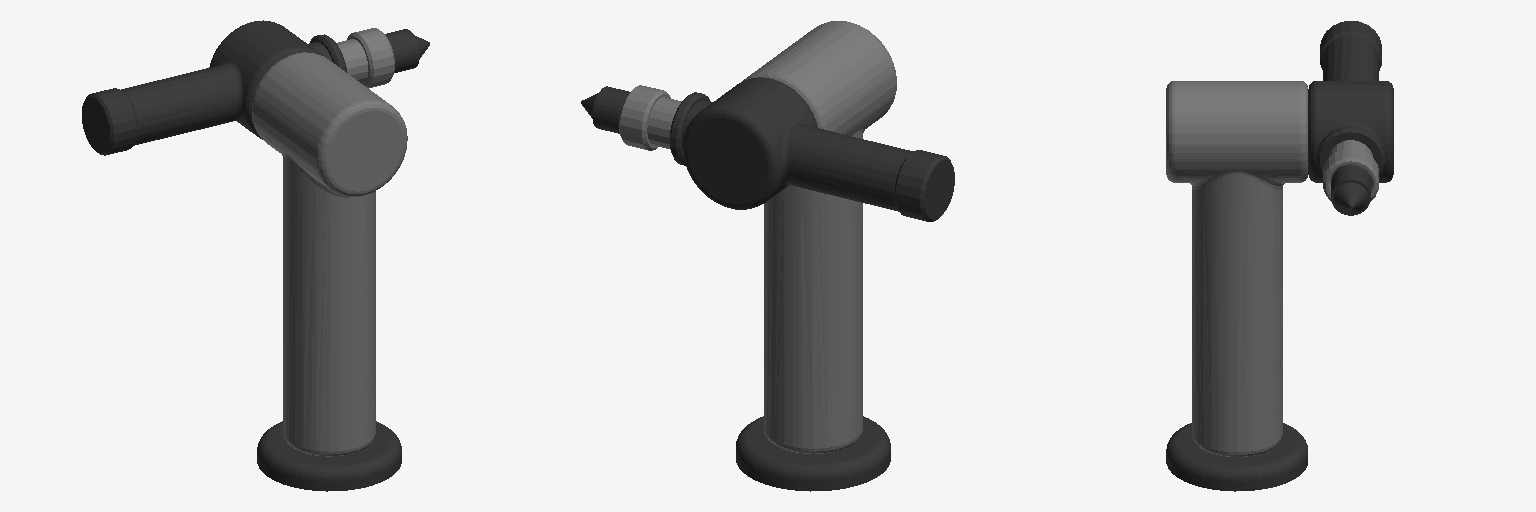
robot.urdf — robot:
<?xml version="1.0" encoding="utf-8"?>
<!-- This URDF was automatically created by SolidWorks to URDF Exporter! Originally created by Stephen Brawner (brawner@gmail.com) 
     Commit Version: 1.6.0-4-g7f85cfe  Build Version: 1.6.7995.38578
     For more information, please see http://wiki.ros.org/sw_urdf_exporter -->
<robot
  name="robot">
  <link
    name="base">
    <inertial>
      <origin
        xyz="0 -4.1633E-17 0.01947"
        rpy="0 0 0" />
      <mass
        value="5.1259" />
      <inertia
        ixx="0.020091"
        ixy="9.7144E-35"
        ixz="-2.0224E-35"
        iyy="0.020091"
        iyz="-6.5871E-17"
        izz="0.03886" />
    </inertial>
    <visual>
      <origin
        xyz="0 0 0"
        rpy="0 0 0" />
      <geometry>
        <mesh
          filename="package://my_robot/meshes/base.STL" />
      </geometry>
      <material
        name="">
        <color
          rgba="0.25 0.25 0.25 1" />
      </material>
    </visual>
    <collision>
      <origin
        xyz="0 0 0"
        rpy="0 0 0" />
      <geometry>
        <mesh
          filename="package://my_robot/meshes/base.STL" />
      </geometry>
    </collision>
  </link>
  <link
    name="link1">
    <inertial>
      <origin
        xyz="-1.9321E-07 -1.5905E-07 -0.21134"
        rpy="0 0 0" />
      <mass
        value="45.236" />
      <inertia
        ixx="2.0228"
        ixy="-1.7903E-08"
        ixz="4.749E-07"
        iyy="1.9708"
        iyz="9.4771E-07"
        izz="0.21241" />
    </inertial>
    <visual>
      <origin
        xyz="0 0 0"
        rpy="0 0 0" />
      <geometry>
        <mesh
          filename="package://my_robot/meshes/link1.STL" />
      </geometry>
      <material
        name="">
        <color
          rgba="0.5 0.5 0.5 1" />
      </material>
    </visual>
    <collision>
      <origin
        xyz="0 0 0"
        rpy="0 0 0" />
      <geometry>
        <mesh
          filename="package://my_robot/meshes/link1.STL" />
      </geometry>
    </collision>
  </link>
  <joint
    name="joint1"
    type="revolute">
    <origin
      xyz="0 0 0.64"
      rpy="0 0 0" />
    <parent
      link="base" />
    <child
      link="link1" />
    <axis
      xyz="0 0 1" />
    <limit
      lower="-3.141592653589793"
      upper="3.141592653589793"
      effort="1000"
      velocity="30" />
  </joint>
  <link
    name="link2">
    <inertial>
      <origin
        xyz="-2.353E-06 0.077449 1.4401E-06"
        rpy="0 0 0" />
      <mass
        value="12.122" />
      <inertia
        ixx="0.23735"
        ixy="-3.6084E-06"
        ixz="5.8385E-08"
        iyy="0.044228"
        iyz="3.7019E-09"
        izz="0.23921" />
    </inertial>
    <visual>
      <origin
        xyz="0 0 0"
        rpy="0 0 0" />
      <geometry>
        <mesh
          filename="package://my_robot/meshes/link2.STL" />
      </geometry>
      <material
        name="">
        <color
          rgba="0.25 0.25 0.25 1" />
      </material>
    </visual>
    <collision>
      <origin
        xyz="0 0 0"
        rpy="0 0 0" />
      <geometry>
        <mesh
          filename="package://my_robot/meshes/link2.STL" />
      </geometry>
    </collision>
  </link>
  <joint
    name="joint2"
    type="revolute">
    <origin
      xyz="0 0.2 0"
      rpy="1.5708 -1.5708 0" />
    <parent
      link="link1" />
    <child
      link="link2" />
    <axis
      xyz="0 0 1" />
    <limit
      lower="-3.141592653589793"
      upper="3.141592653589793"
      effort="1000"
      velocity="30" />
  </joint>
  <link
    name="link3">
    <inertial>
      <origin
        xyz="-7.7716E-16 2.7756E-17 -0.22224"
        rpy="0 0 0" />
      <mass
        value="6.1928" />
      <inertia
        ixx="0.10771"
        ixy="1.8371E-19"
        ixz="-3.5634E-16"
        iyy="0.10771"
        iyz="1.0744E-17"
        izz="0.0054388" />
    </inertial>
    <visual>
      <origin
        xyz="0 0 0"
        rpy="0 0 0" />
      <geometry>
        <mesh
          filename="package://my_robot/meshes/link3.STL" />
      </geometry>
      <material
        name="">
        <color
          rgba="0.5 0.5 0.5 1" />
      </material>
    </visual>
    <collision>
      <origin
        xyz="0 0 0"
        rpy="0 0 0" />
      <geometry>
        <mesh
          filename="package://my_robot/meshes/link3.STL" />
      </geometry>
    </collision>
  </link>
  <joint
    name="joint3"
    type="prismatic">
    <origin
      xyz="0 -0.22 0"
      rpy="1.5708 0 0" />
    <parent
      link="link2" />
    <child
      link="link3" />
    <axis
      xyz="0 0 1" />
    <limit
      lower="0"
      upper="0.3"
      effort="1000"
      velocity="3" />
  </joint>
  <link
    name="end_effector">
    <inertial>
      <origin
        xyz="-0.074006 -2.7756E-17 -1.1102E-16"
        rpy="0 0 0" />
      <mass
        value="0.94224" />
      <inertia
        ixx="0.00053913"
        ixy="6.9791E-21"
        ixz="1.0283E-20"
        iyy="0.00097435"
        iyz="4.3368E-37"
        izz="0.00097435" />
    </inertial>
    <visual>
      <origin
        xyz="0 0 0"
        rpy="0 -1.5708 0" />
      <geometry>
        <mesh
          filename="package://my_robot/meshes/end_effector.STL" />
      </geometry>
      <material
        name="">
        <color
          rgba="0.25 0.25 0.25 1" />
      </material>
    </visual>
    <collision>
      <origin
        xyz="0 0 0"
        rpy="0 -1.5708 0" />
      <geometry>
        <mesh
          filename="package://my_robot/meshes/end_effector.STL" />
      </geometry>
    </collision>
  </link>
  <joint
    name="link3_to_end_effector"
    type="fixed">
    <origin
      xyz="0 0 0.095"
      rpy="0 0 0" />
    <parent
      link="link3" />
    <child
      link="end_effector" />
    <axis
      xyz="0 0 0" />
  </joint>
</robot>

--- What the picture shows (computed from the rendered views, not written in the file) ---
3 views of the same robot in one strip: view 1: azimuth 30°, elevation 25°; view 2: azimuth 150°, elevation 25°; view 3: azimuth 270°, elevation 25° (orthographic).
Model robot with 5 links and 4 joints (2 revolute, 1 prismatic, 1 fixed), rooted at base, posed all joints at 0.
Visible links, largest first — view 1: link1, link2, base, link3, end_effector; view 2: link1, link2, base, link3, end_effector; view 3: link1, link2, base, end_effector, link3.
Boxes of the visible links, left/top/right/bottom form: link1: left=252, top=52, right=407, bottom=456; link2: left=82, top=20, right=346, bottom=155; base: left=257, top=421, right=401, bottom=491; link3: left=337, top=28, right=394, bottom=88; end_effector: left=385, top=29, right=429, bottom=72; link1: left=742, top=21, right=896, bottom=453; link2: left=670, top=77, right=954, bottom=221; base: left=736, top=416, right=890, bottom=491; link3: left=619, top=85, right=681, bottom=150; end_effector: left=581, top=86, right=629, bottom=133; link1: left=1166, top=81, right=1307, bottom=456; link2: left=1308, top=21, right=1393, bottom=182; base: left=1166, top=423, right=1307, bottom=491; end_effector: left=1331, top=165, right=1370, bottom=215; link3: left=1323, top=140, right=1378, bottom=201.
Size in the robot's own frame: 0.665 by 0.4 by 0.73 metres.
Meshes: 5 distinct files referenced, 5 mesh visuals loaded (5 binary STL).
